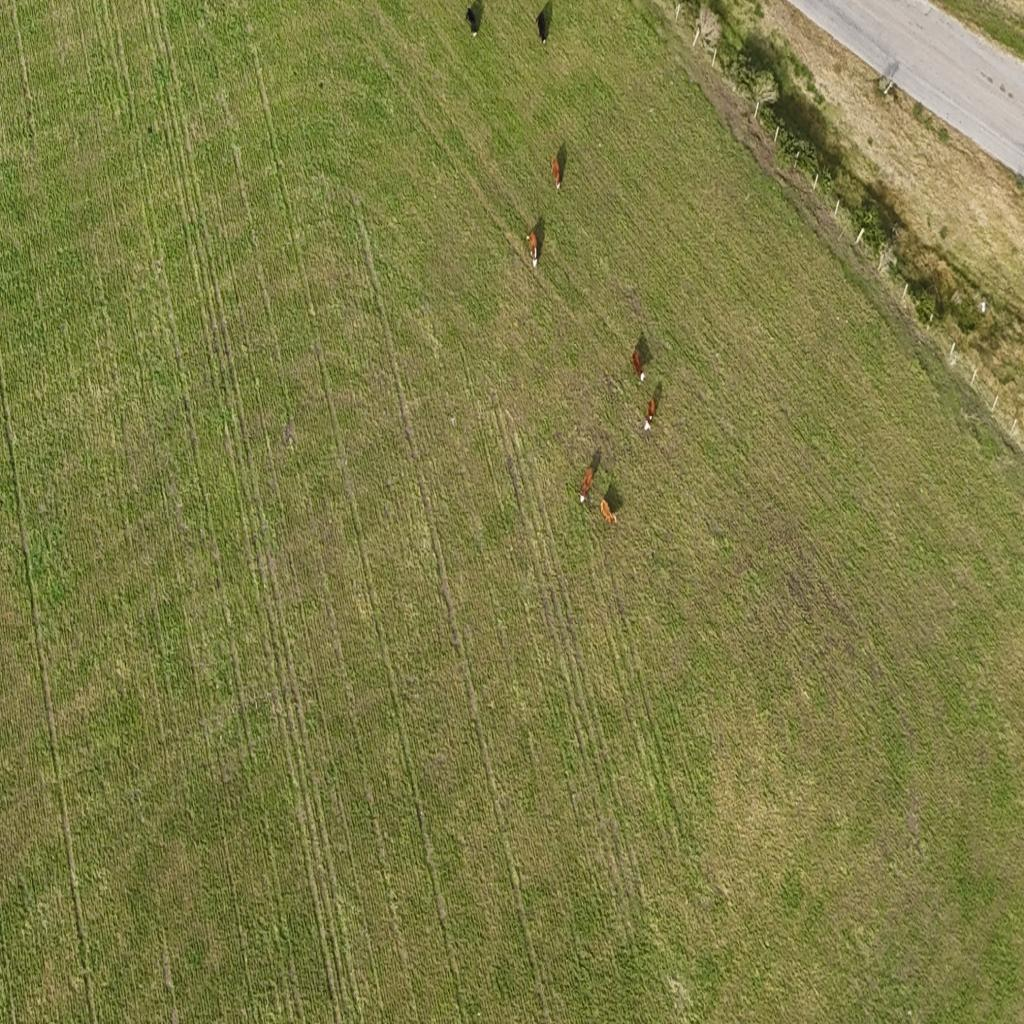cow: (642, 391, 657, 430), (601, 498, 617, 526), (631, 348, 644, 382), (528, 230, 539, 268), (466, 6, 479, 36), (537, 12, 548, 46), (552, 156, 562, 192), (581, 468, 593, 496)
